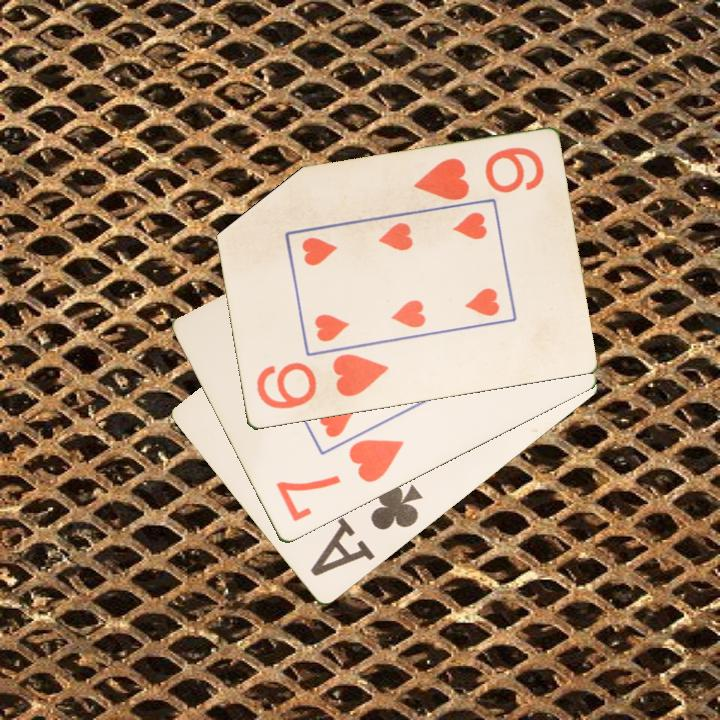6h: (252, 351, 392, 413), (409, 144, 547, 205)
7h: (272, 436, 407, 525)
Ac: (306, 479, 426, 581)
